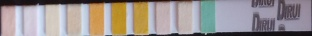color 1: (201, 1, 214, 31), (112, 4, 125, 33), (179, 3, 192, 32), (2, 6, 14, 36), (24, 6, 36, 36), (46, 5, 58, 35), (90, 4, 102, 34), (157, 3, 169, 32), (68, 5, 80, 33), (135, 3, 146, 32)
